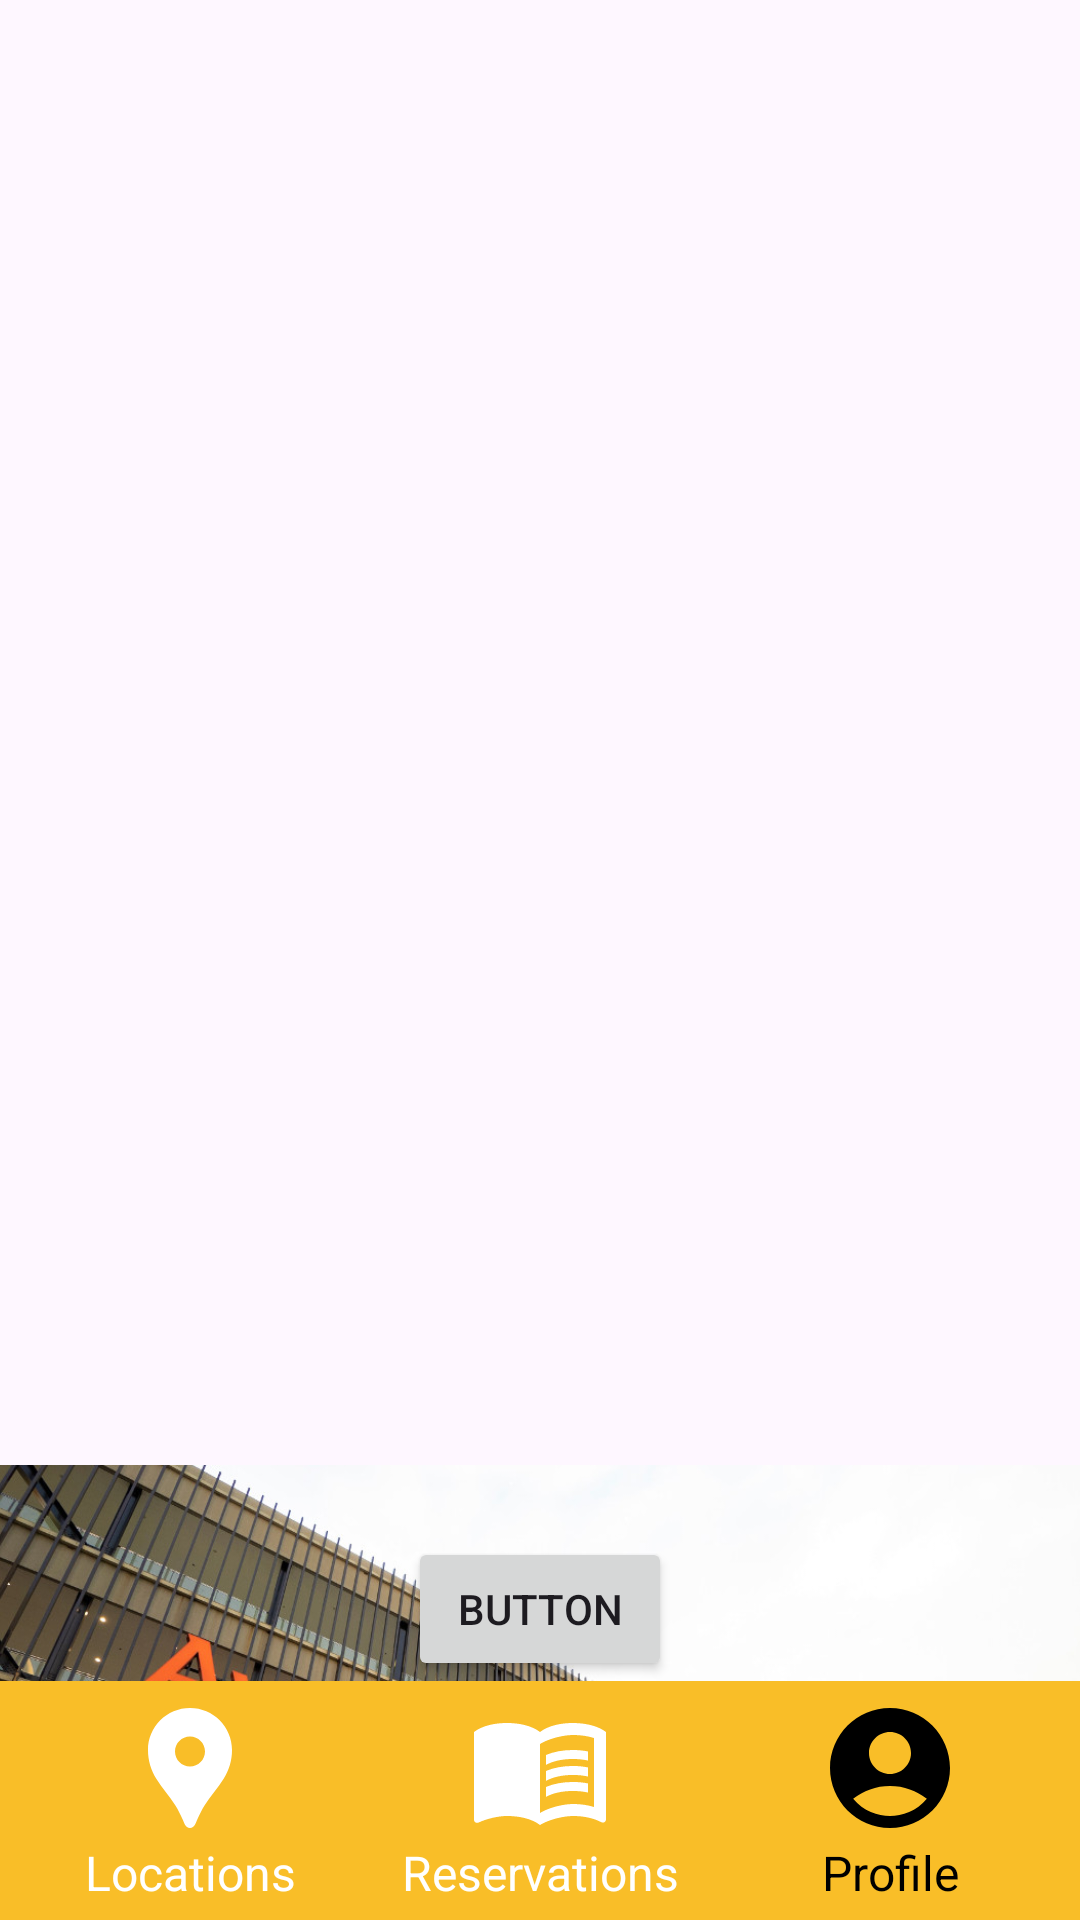

Screen size 1080px x 1920px. Icon name, then its center in pixels as point (x, y):
account circle: point (890, 1768)
book: point (540, 1774)
location pin: point (190, 1768)
